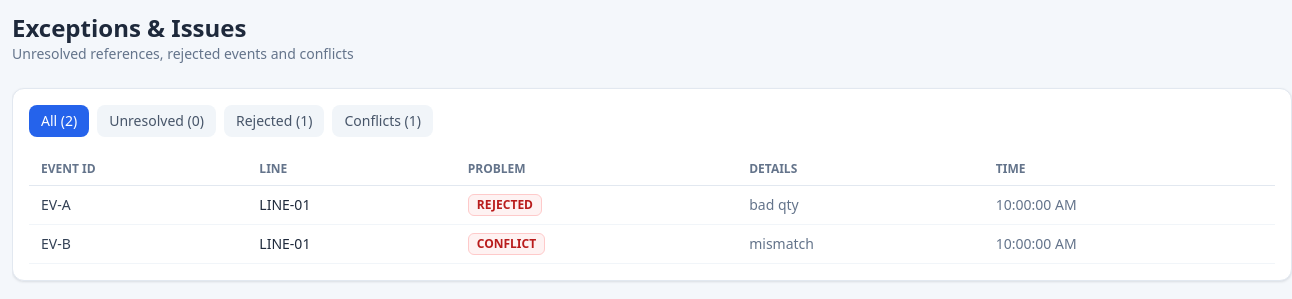
Scenario: Exceptions › filters by category
Expected: the text "EV-A" is shown, [29,186,247,224]
Expected: the text "EV-B" is shown, [29,224,247,264]
Click the button "Conflicts (1)".
click(383, 121)  # box [332,105,433,137]
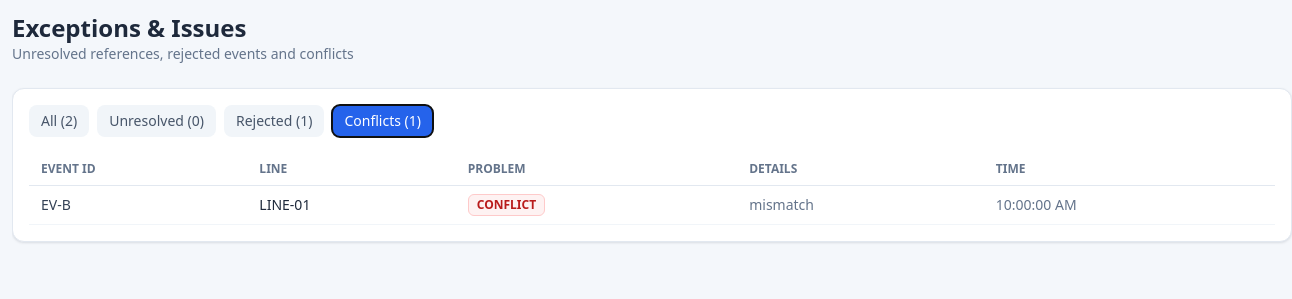
Expected: the text "EV-A" is gone
Expected: the text "EV-B" is shown, [29,186,247,224]
